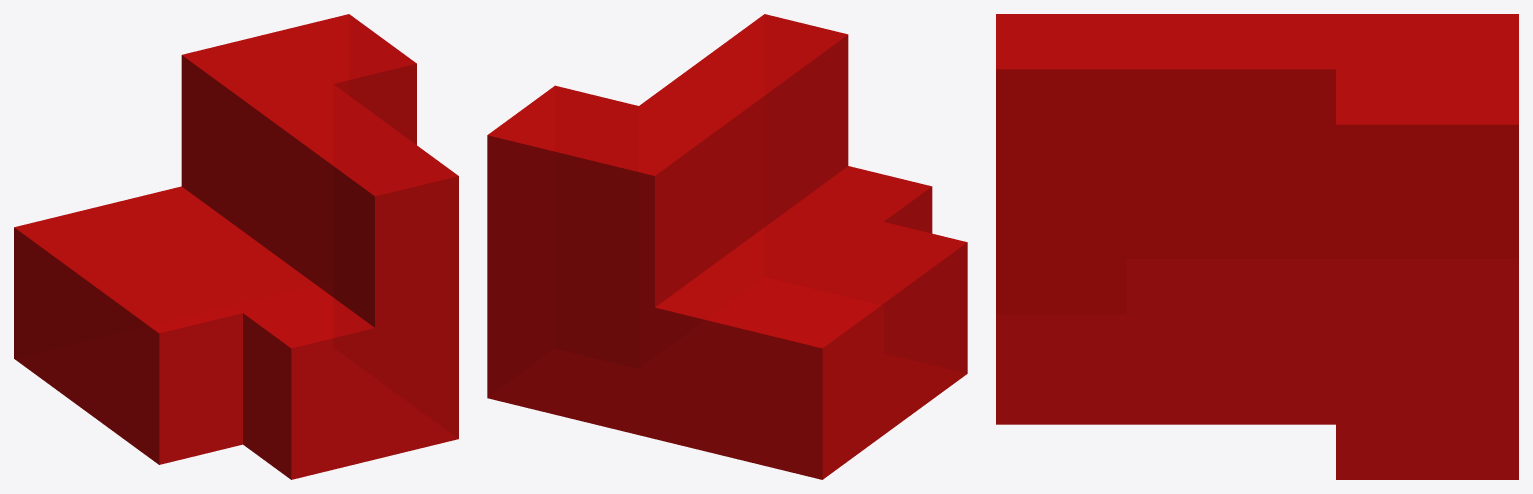
3 renders of one model, left to right at view 1: azimuth 30°, elevation 25°; view 2: azimuth 150°, elevation 25°; view 3: azimuth 270°, elevation 25°, orthographic. The views are drawn at different scales.
Visible parts, largest first — view 1: SketchUp; view 2: SketchUp; view 3: SketchUp.
Boxes of the visible parts, left/top/right/bottom form: SketchUp: left=14, top=14, right=458, bottom=479; SketchUp: left=487, top=14, right=967, bottom=479; SketchUp: left=996, top=14, right=1518, bottom=479.
Size of the model in its own units: 787 by 787 by 591.
